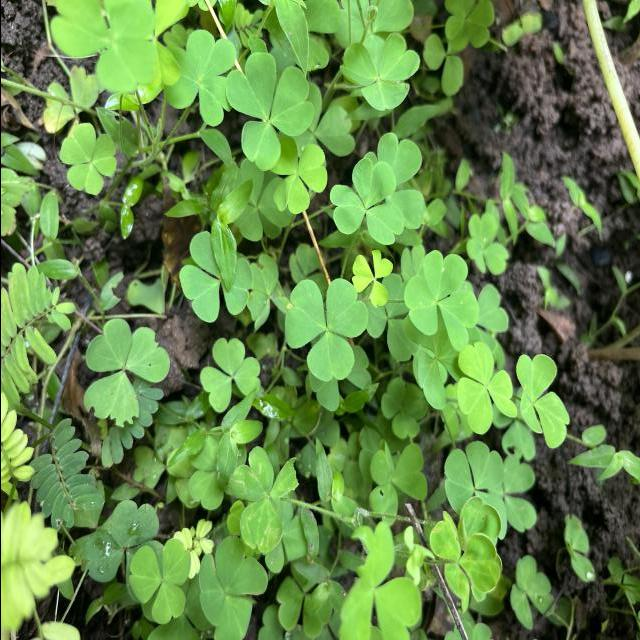Oxalis corniculata: (225, 50, 314, 172), (82, 317, 170, 428), (284, 278, 368, 382), (402, 250, 479, 352), (158, 29, 237, 128), (228, 444, 298, 555), (197, 534, 270, 639), (178, 230, 252, 324), (328, 157, 406, 245), (337, 32, 421, 112), (442, 441, 508, 542), (454, 342, 516, 436), (514, 350, 570, 450), (128, 538, 191, 626), (198, 335, 260, 413), (270, 134, 327, 215), (57, 120, 116, 196), (351, 248, 394, 308)
